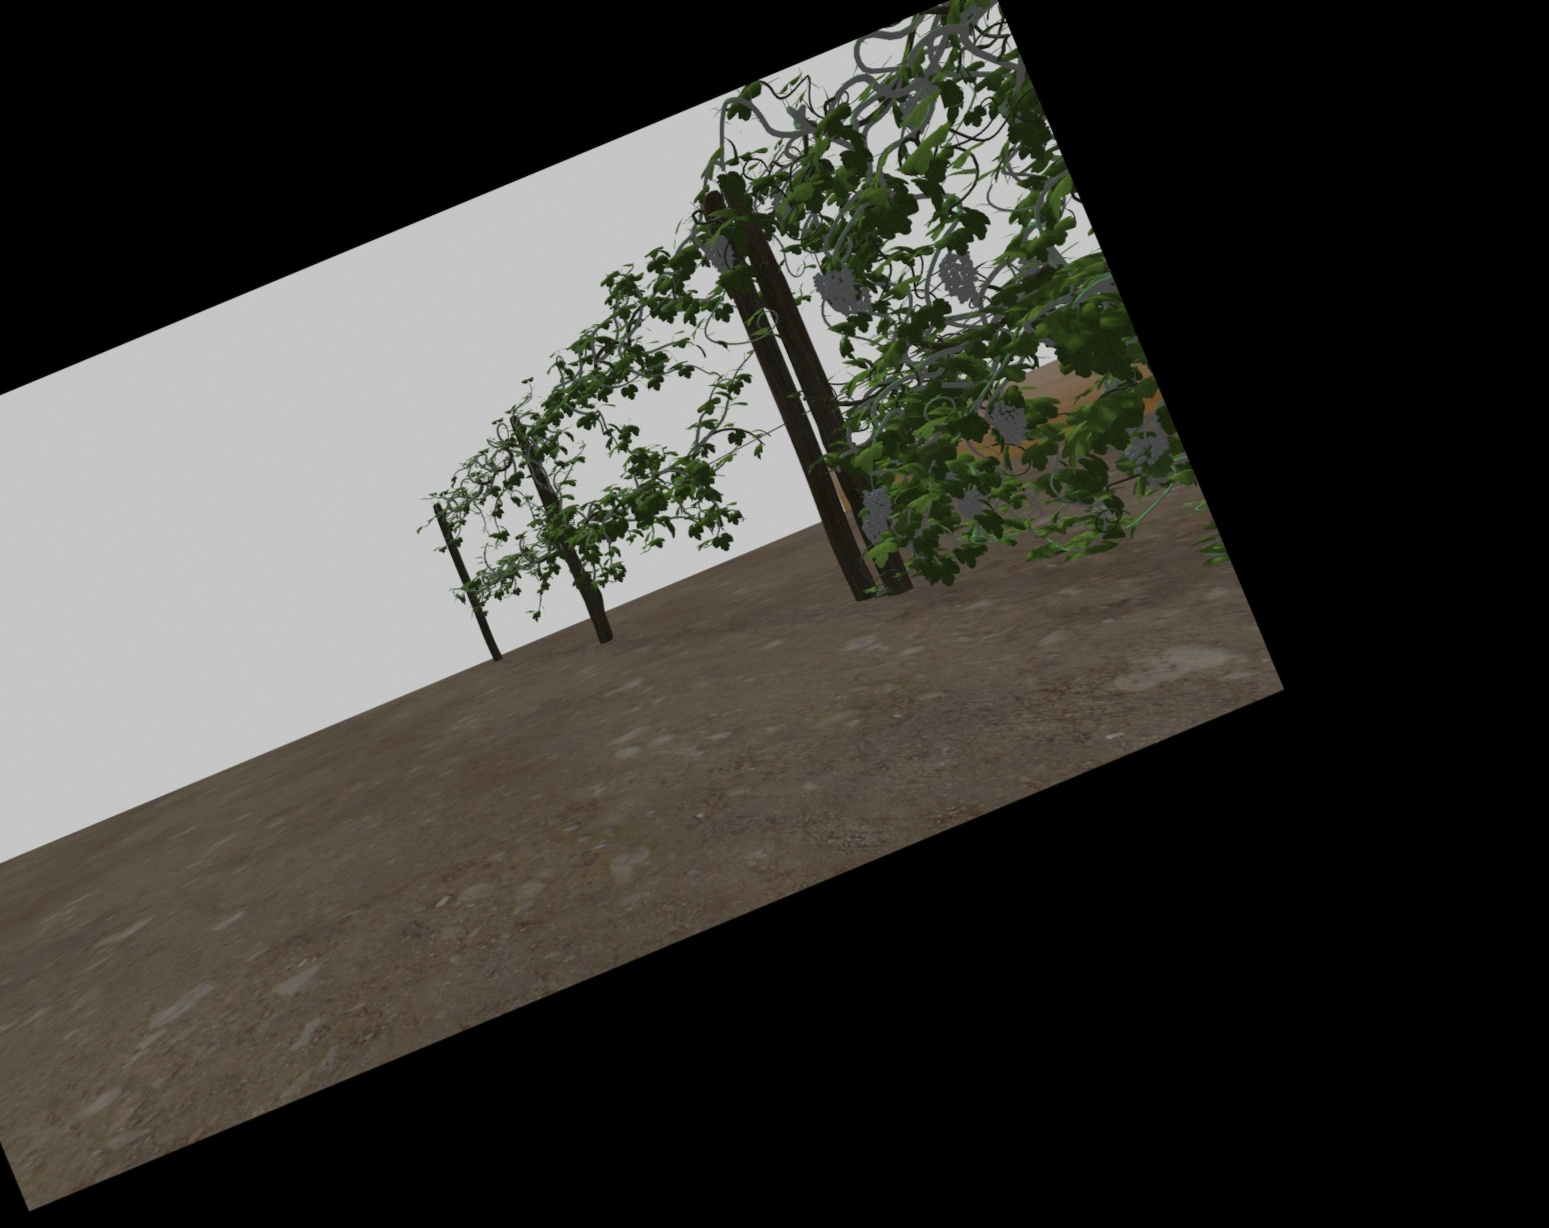grape: (1130, 432, 1172, 486), (819, 265, 857, 317), (940, 251, 978, 300), (995, 398, 1027, 447), (863, 486, 890, 522), (707, 238, 733, 273), (863, 517, 885, 543), (958, 494, 981, 518)
